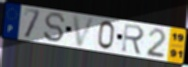0: (97, 20, 116, 50)
2: (146, 27, 167, 59)
7: (23, 7, 41, 41)
R: (121, 22, 147, 56)
S: (42, 11, 67, 43)
V: (71, 15, 97, 48)
